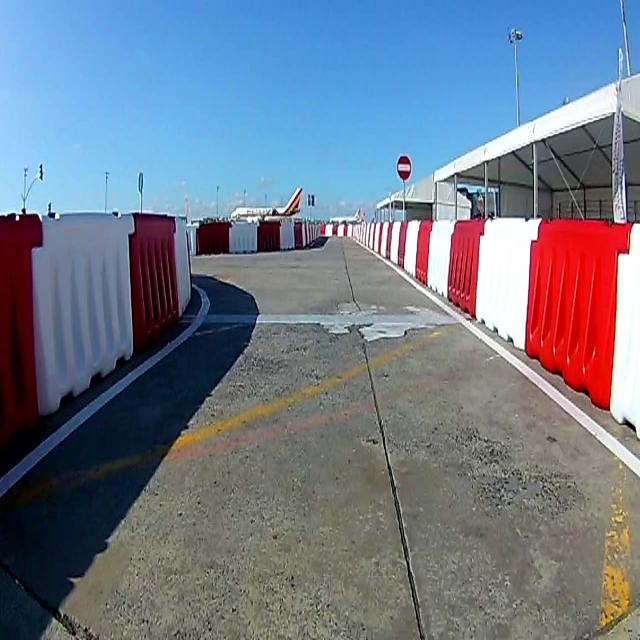girisyok: (395, 153, 414, 181)
